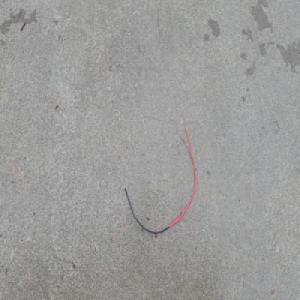Wire: (120, 118, 197, 235)
